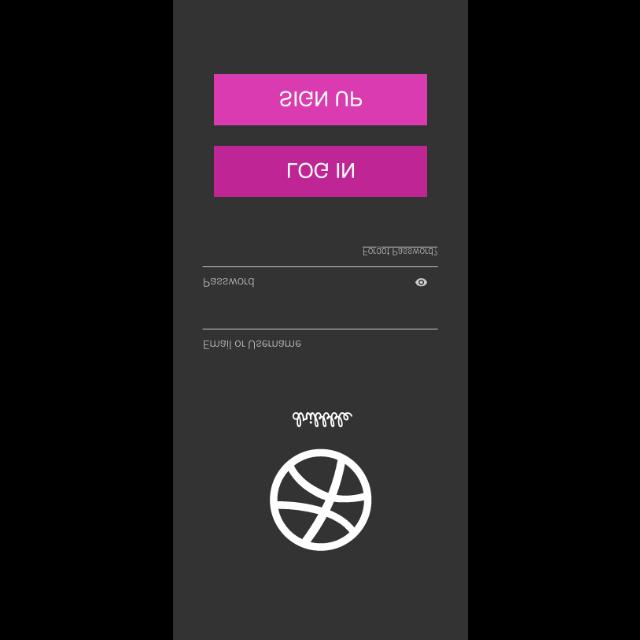icon: (415, 278, 427, 286)
image: (270, 448, 372, 550), (292, 410, 353, 428)
input: (202, 328, 438, 350), (202, 266, 438, 288)
text: (203, 340, 301, 350), (362, 246, 438, 256), (202, 278, 254, 288)
textbutton: (213, 145, 427, 197), (213, 73, 427, 125)
